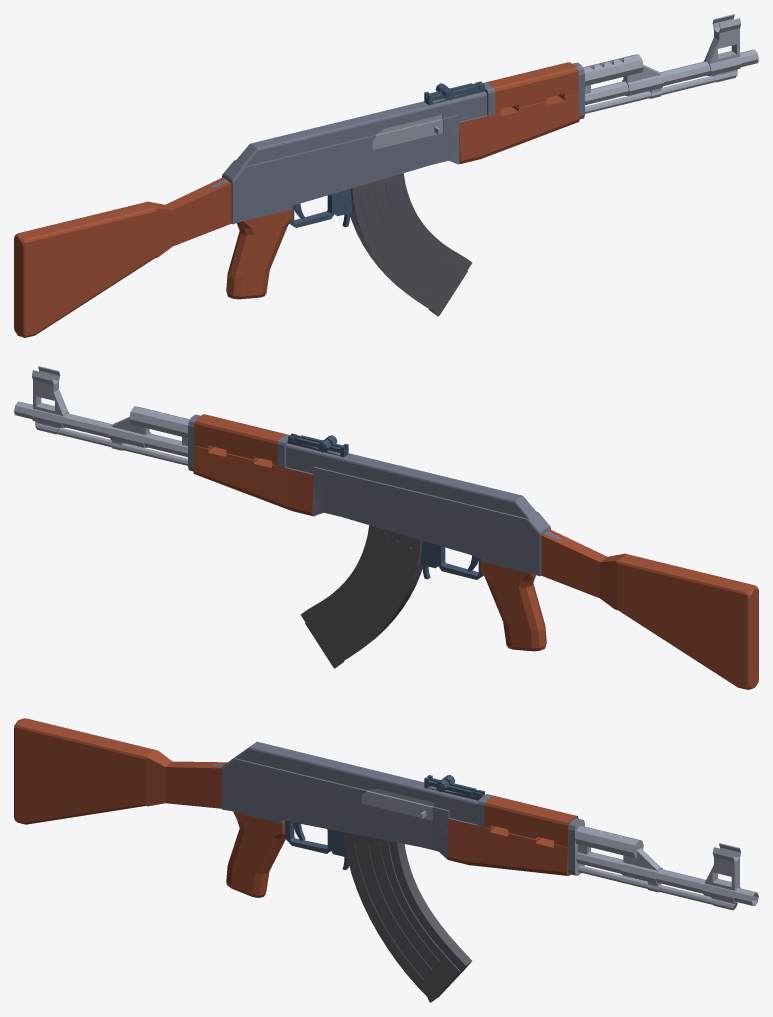
3 renders of one model, top to bottom at view 1: azimuth 30°, elevation 25°; view 2: azimuth 150°, elevation 25°; view 3: azimuth 330°, elevation 25°, orthographic.
Parts seen in each view (by area): view 1: Body, Mag, Slide; view 2: Body, Mag; view 3: Body, Mag, Slide.
Part boxes in pixels (box(x1,y1,x2,y2)): Body: box(14, 14, 758, 337); Mag: box(350, 173, 472, 316); Slide: box(372, 114, 442, 149); Body: box(14, 366, 758, 689); Mag: box(300, 525, 422, 668); Body: box(14, 718, 758, 910); Mag: box(344, 832, 471, 1002); Slide: box(362, 789, 433, 820).
Bounding box in the file's own units: 577 × 167 × 21.21.
